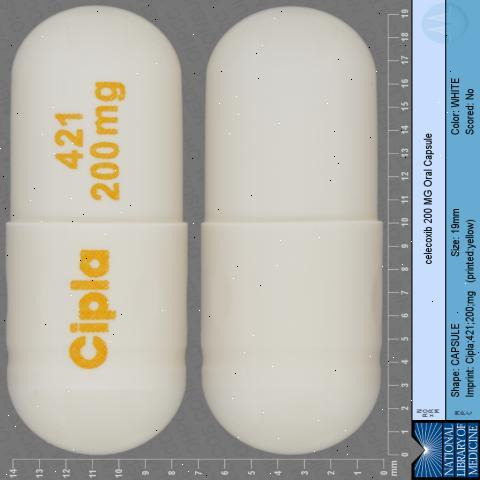Pill: (192, 0, 404, 458), (0, 0, 199, 452)
